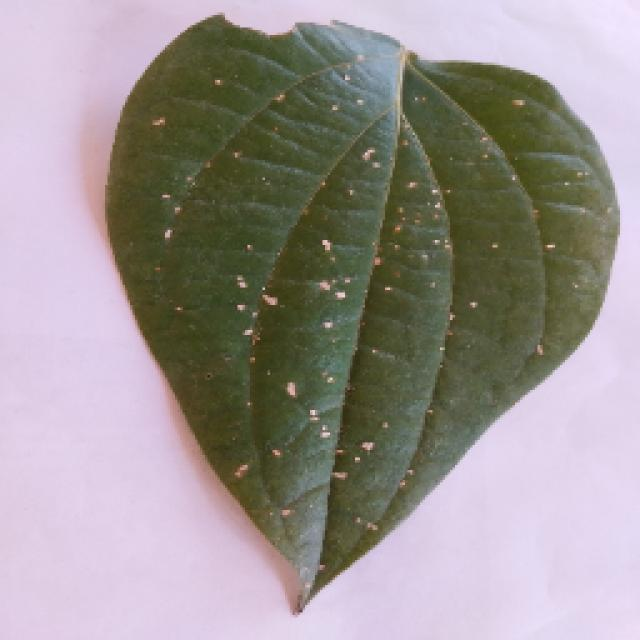pollu-disease: (105, 15, 610, 610)
